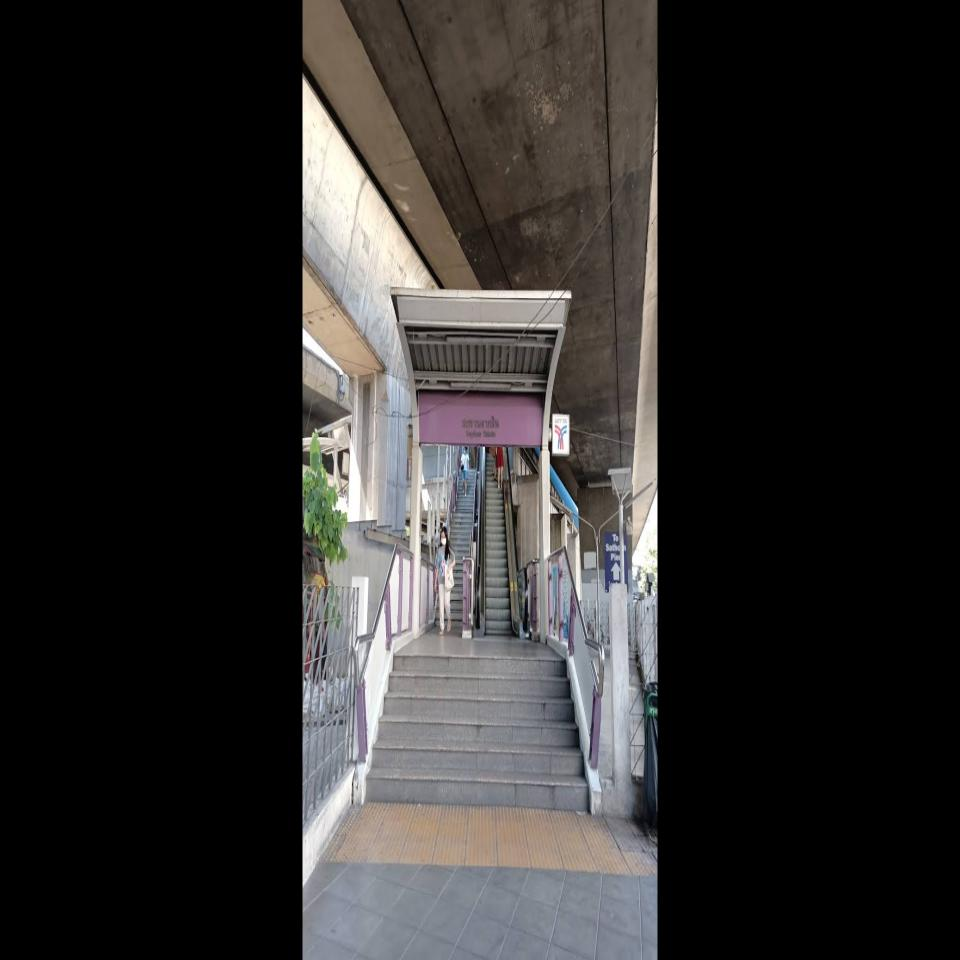signage: (418, 404, 570, 456), (418, 404, 544, 446)
